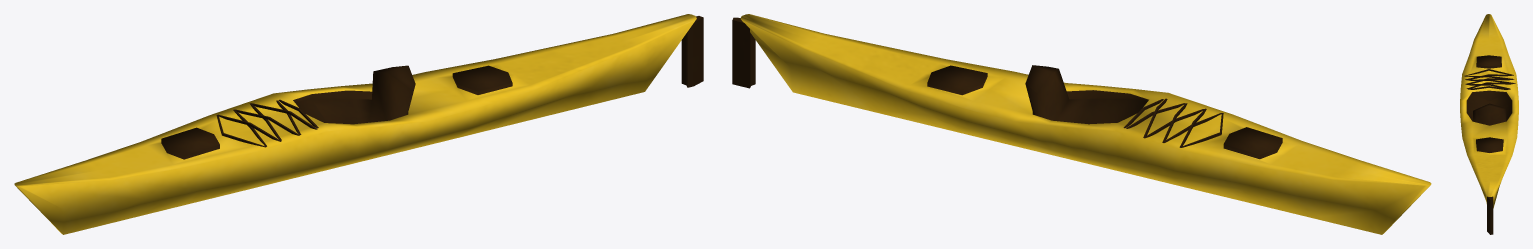
Rendered from Kayaker.glb.
The picture shows the model from 3 angles, left to right: view 1: azimuth 30°, elevation 25°; view 2: azimuth 150°, elevation 25°; view 3: azimuth 270°, elevation 25°; orthographic projection. The views are drawn at different scales.
Visible parts, largest first — view 1: Kayak; view 2: Kayak; view 3: Kayak.
Boxes of the visible parts, x1,y1,x2,y2 form: Kayak: [14, 14, 703, 234]; Kayak: [732, 14, 1431, 234]; Kayak: [1460, 14, 1518, 234].
Size of the model in its own units: 0.2445 by 0.0299 by 0.0329.
1 material, 1 textured.
